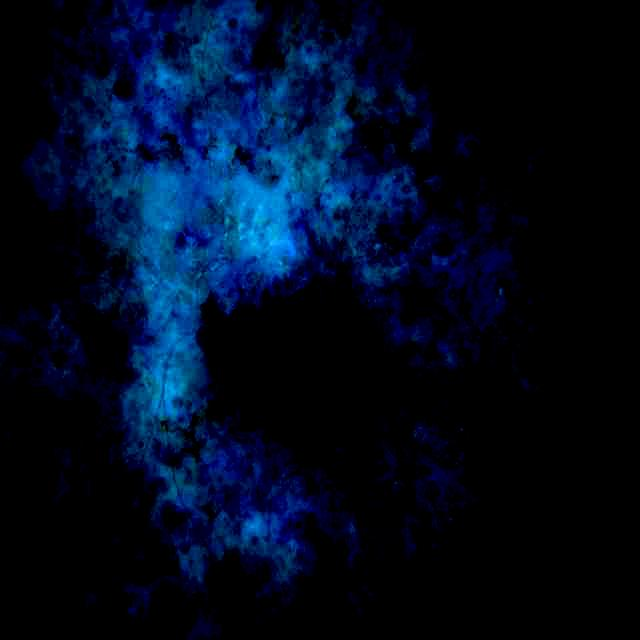AKIEC: (205, 297, 368, 437)
